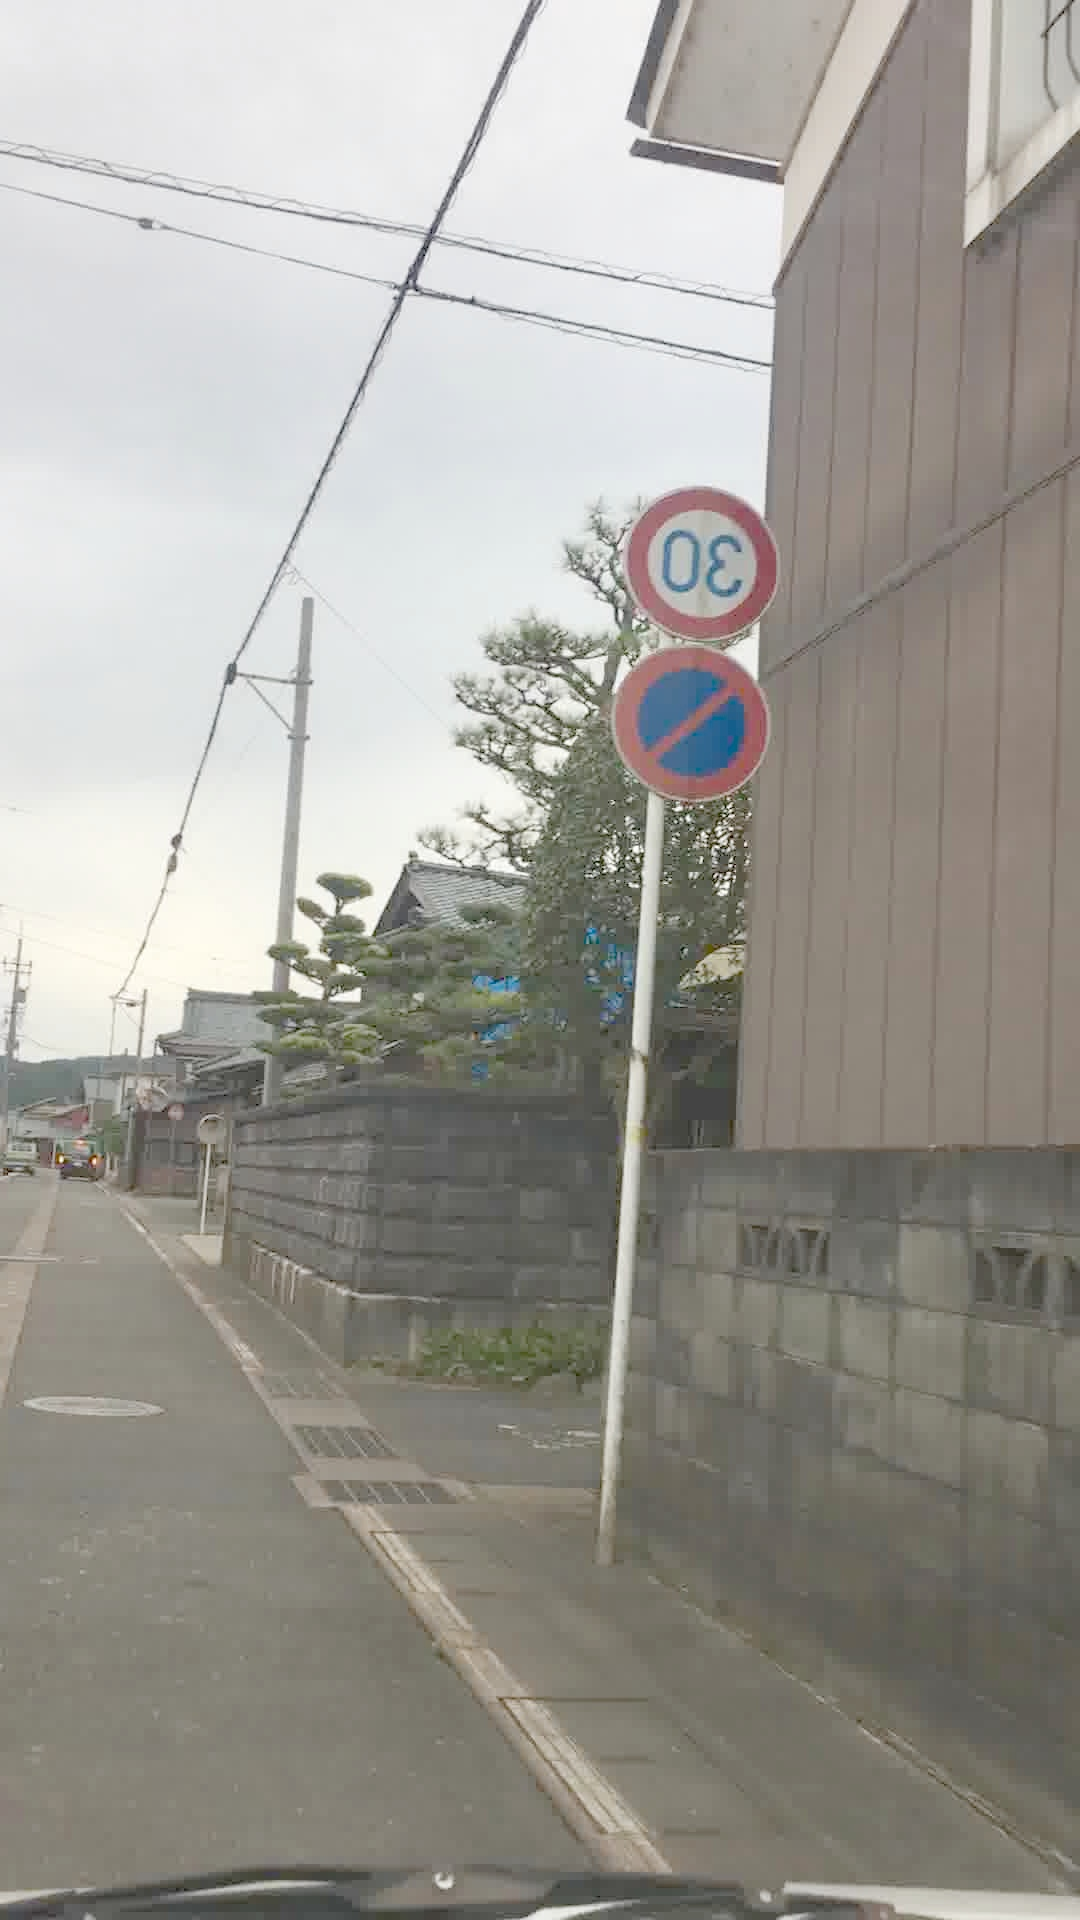Prohibition_sign: (612, 630, 793, 820)
Speed_sign: (628, 480, 786, 666)
